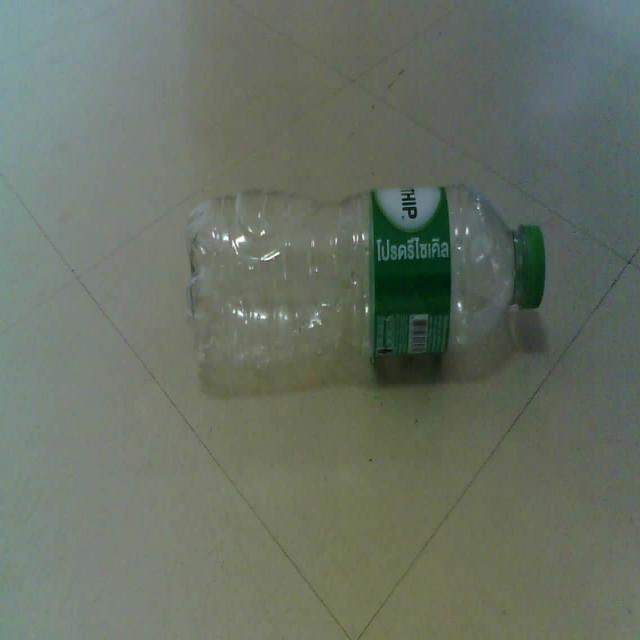empty: (186, 185, 545, 383)
